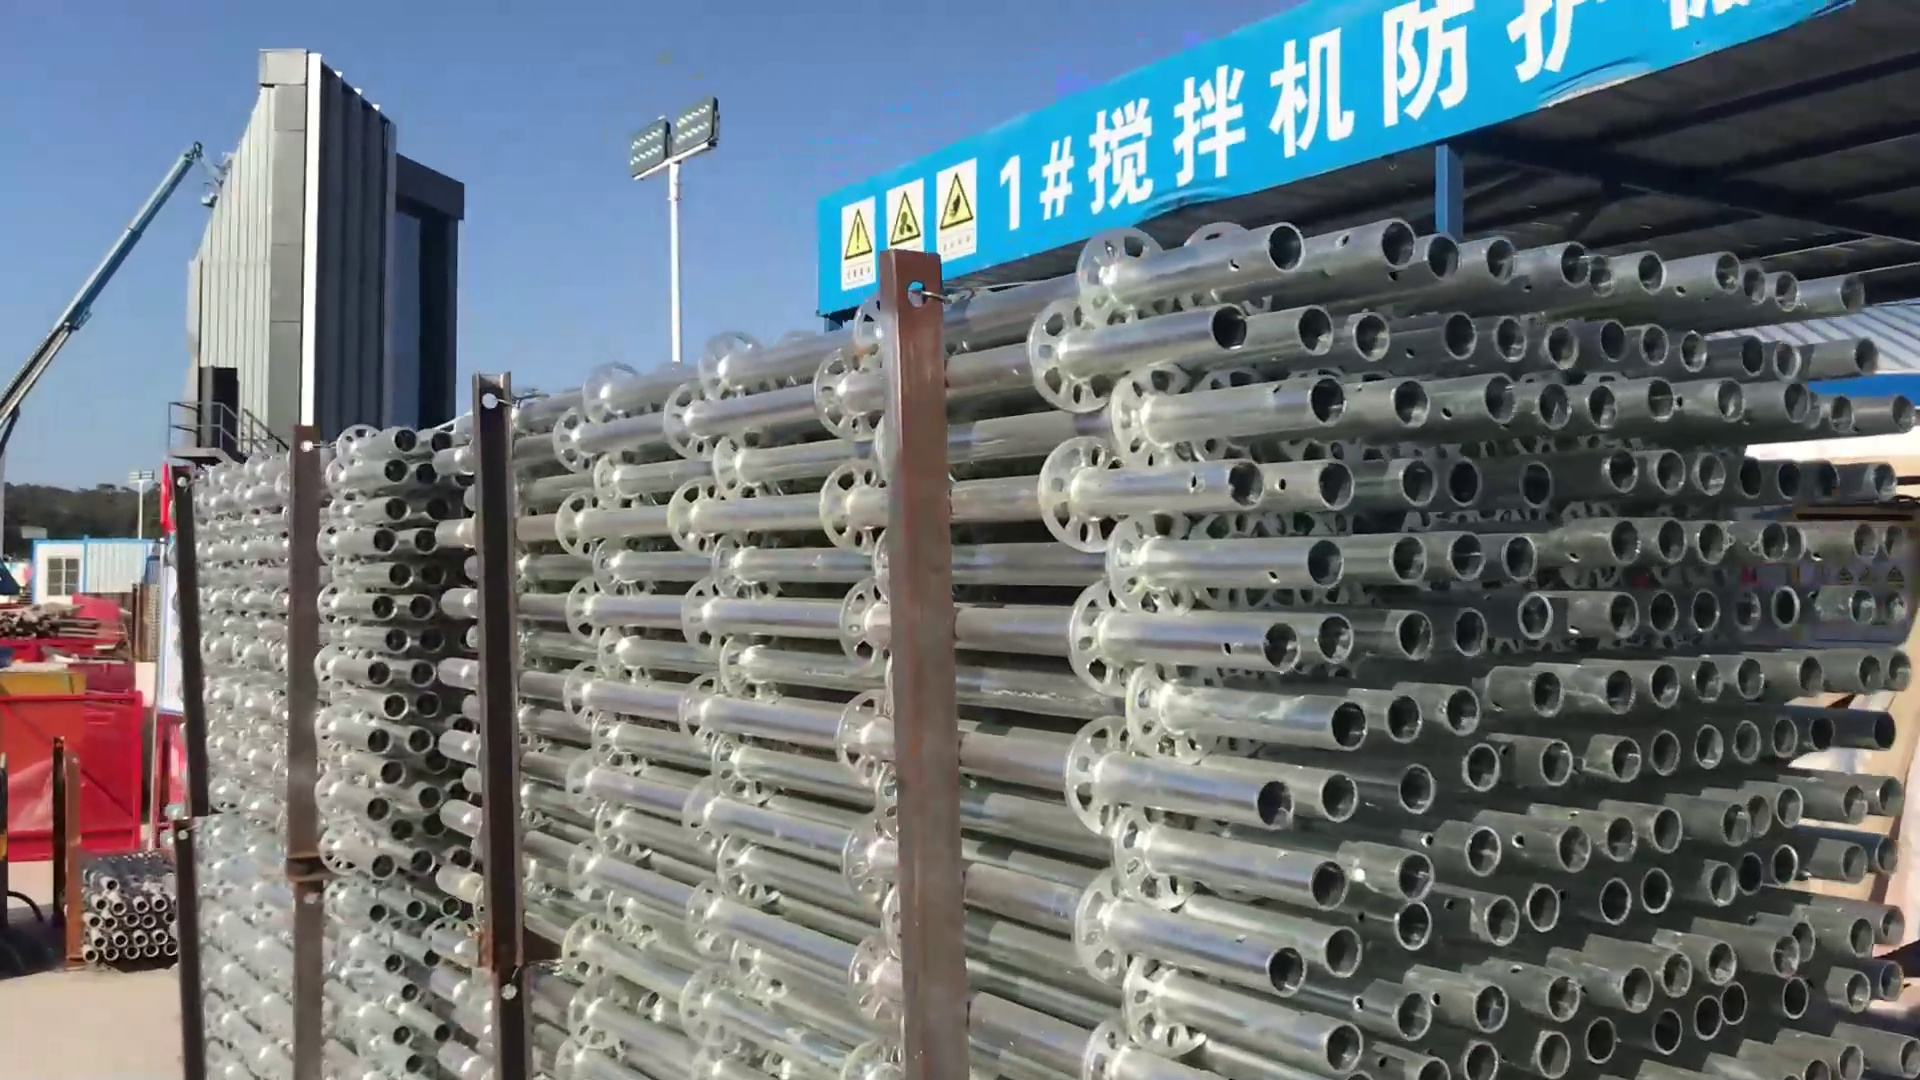fence: (1, 688, 146, 858)
scaffold: (170, 224, 1916, 1080), (80, 853, 178, 969)
slogan: (825, 154, 985, 287)
